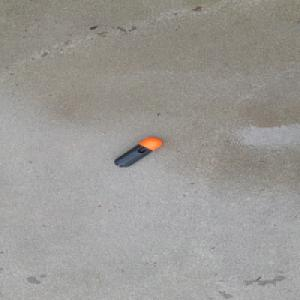PlasticPart: (113, 137, 163, 167)
